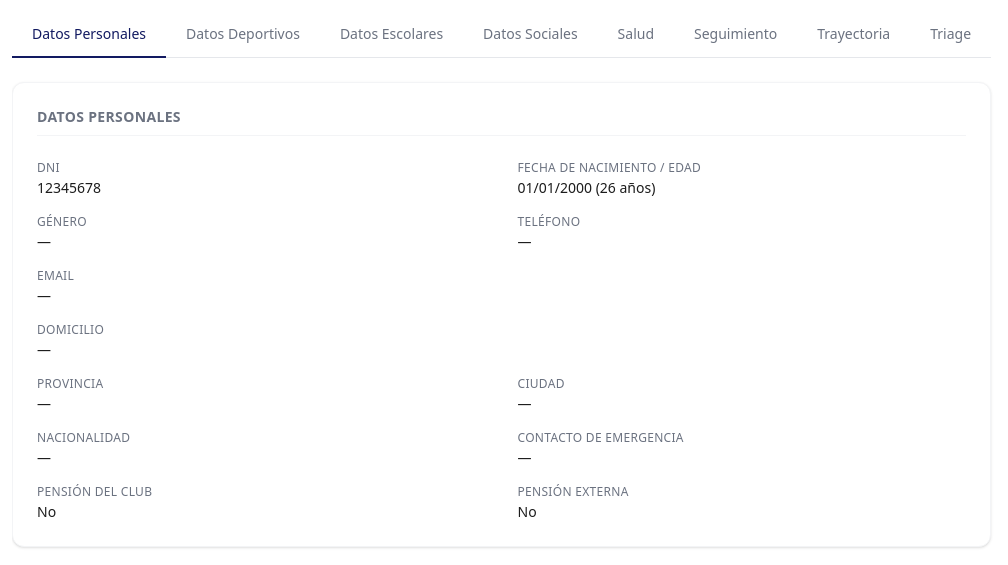
DeportistaDetailTabs › el estado vacío de una tab de datos se muestra cuando no hay relación
Click the tab "Datos Escolares": (392, 35) [320,12,463,58]
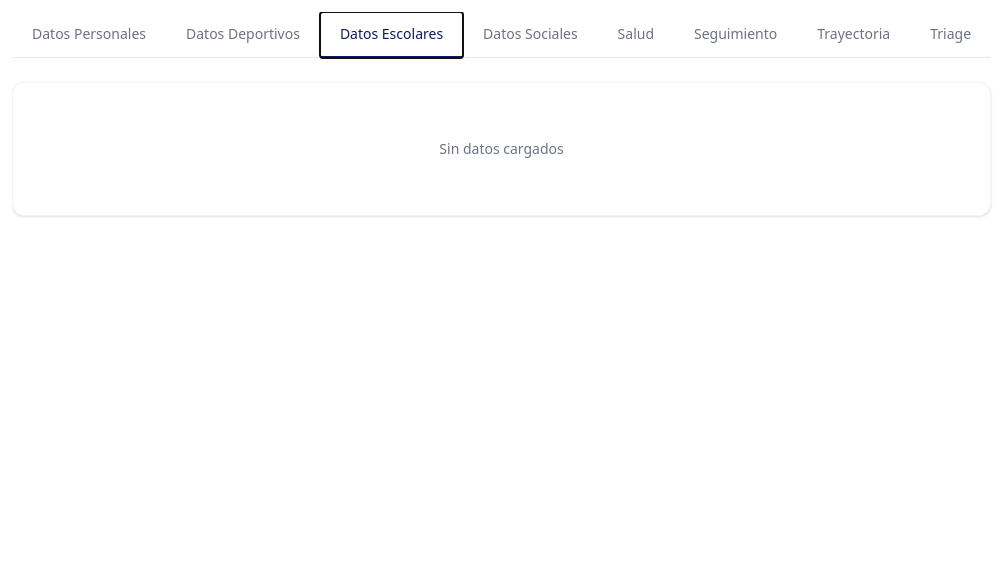
Check: the text "Sin datos cargados" is shown, box [439,139,564,158]
